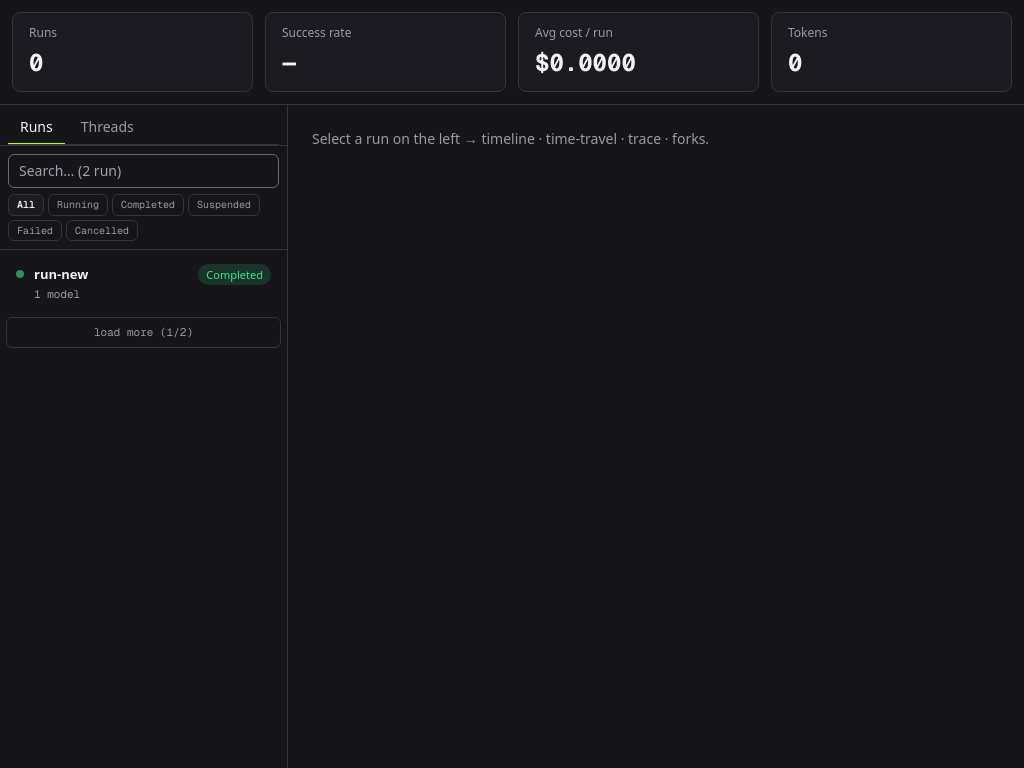
Test case: studio-ui components › Inspector pagination: with a nextCursor, "load more" appends the next page
Expected: the text "run-new" is shown, [34,264,88,284]
Click the button "load more (1/2)". click: (144, 333)
box: [6,317,281,348]
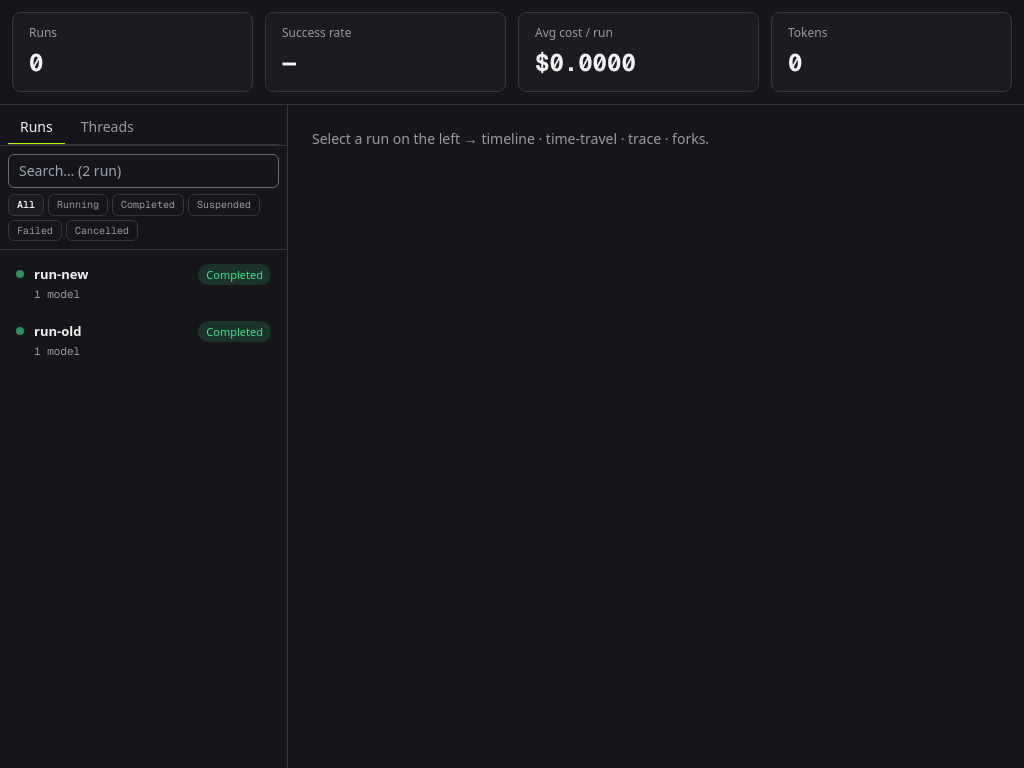
Expected: the text "run-old" is shown, [34,321,81,341]
Expected: the button "load more" is gone
